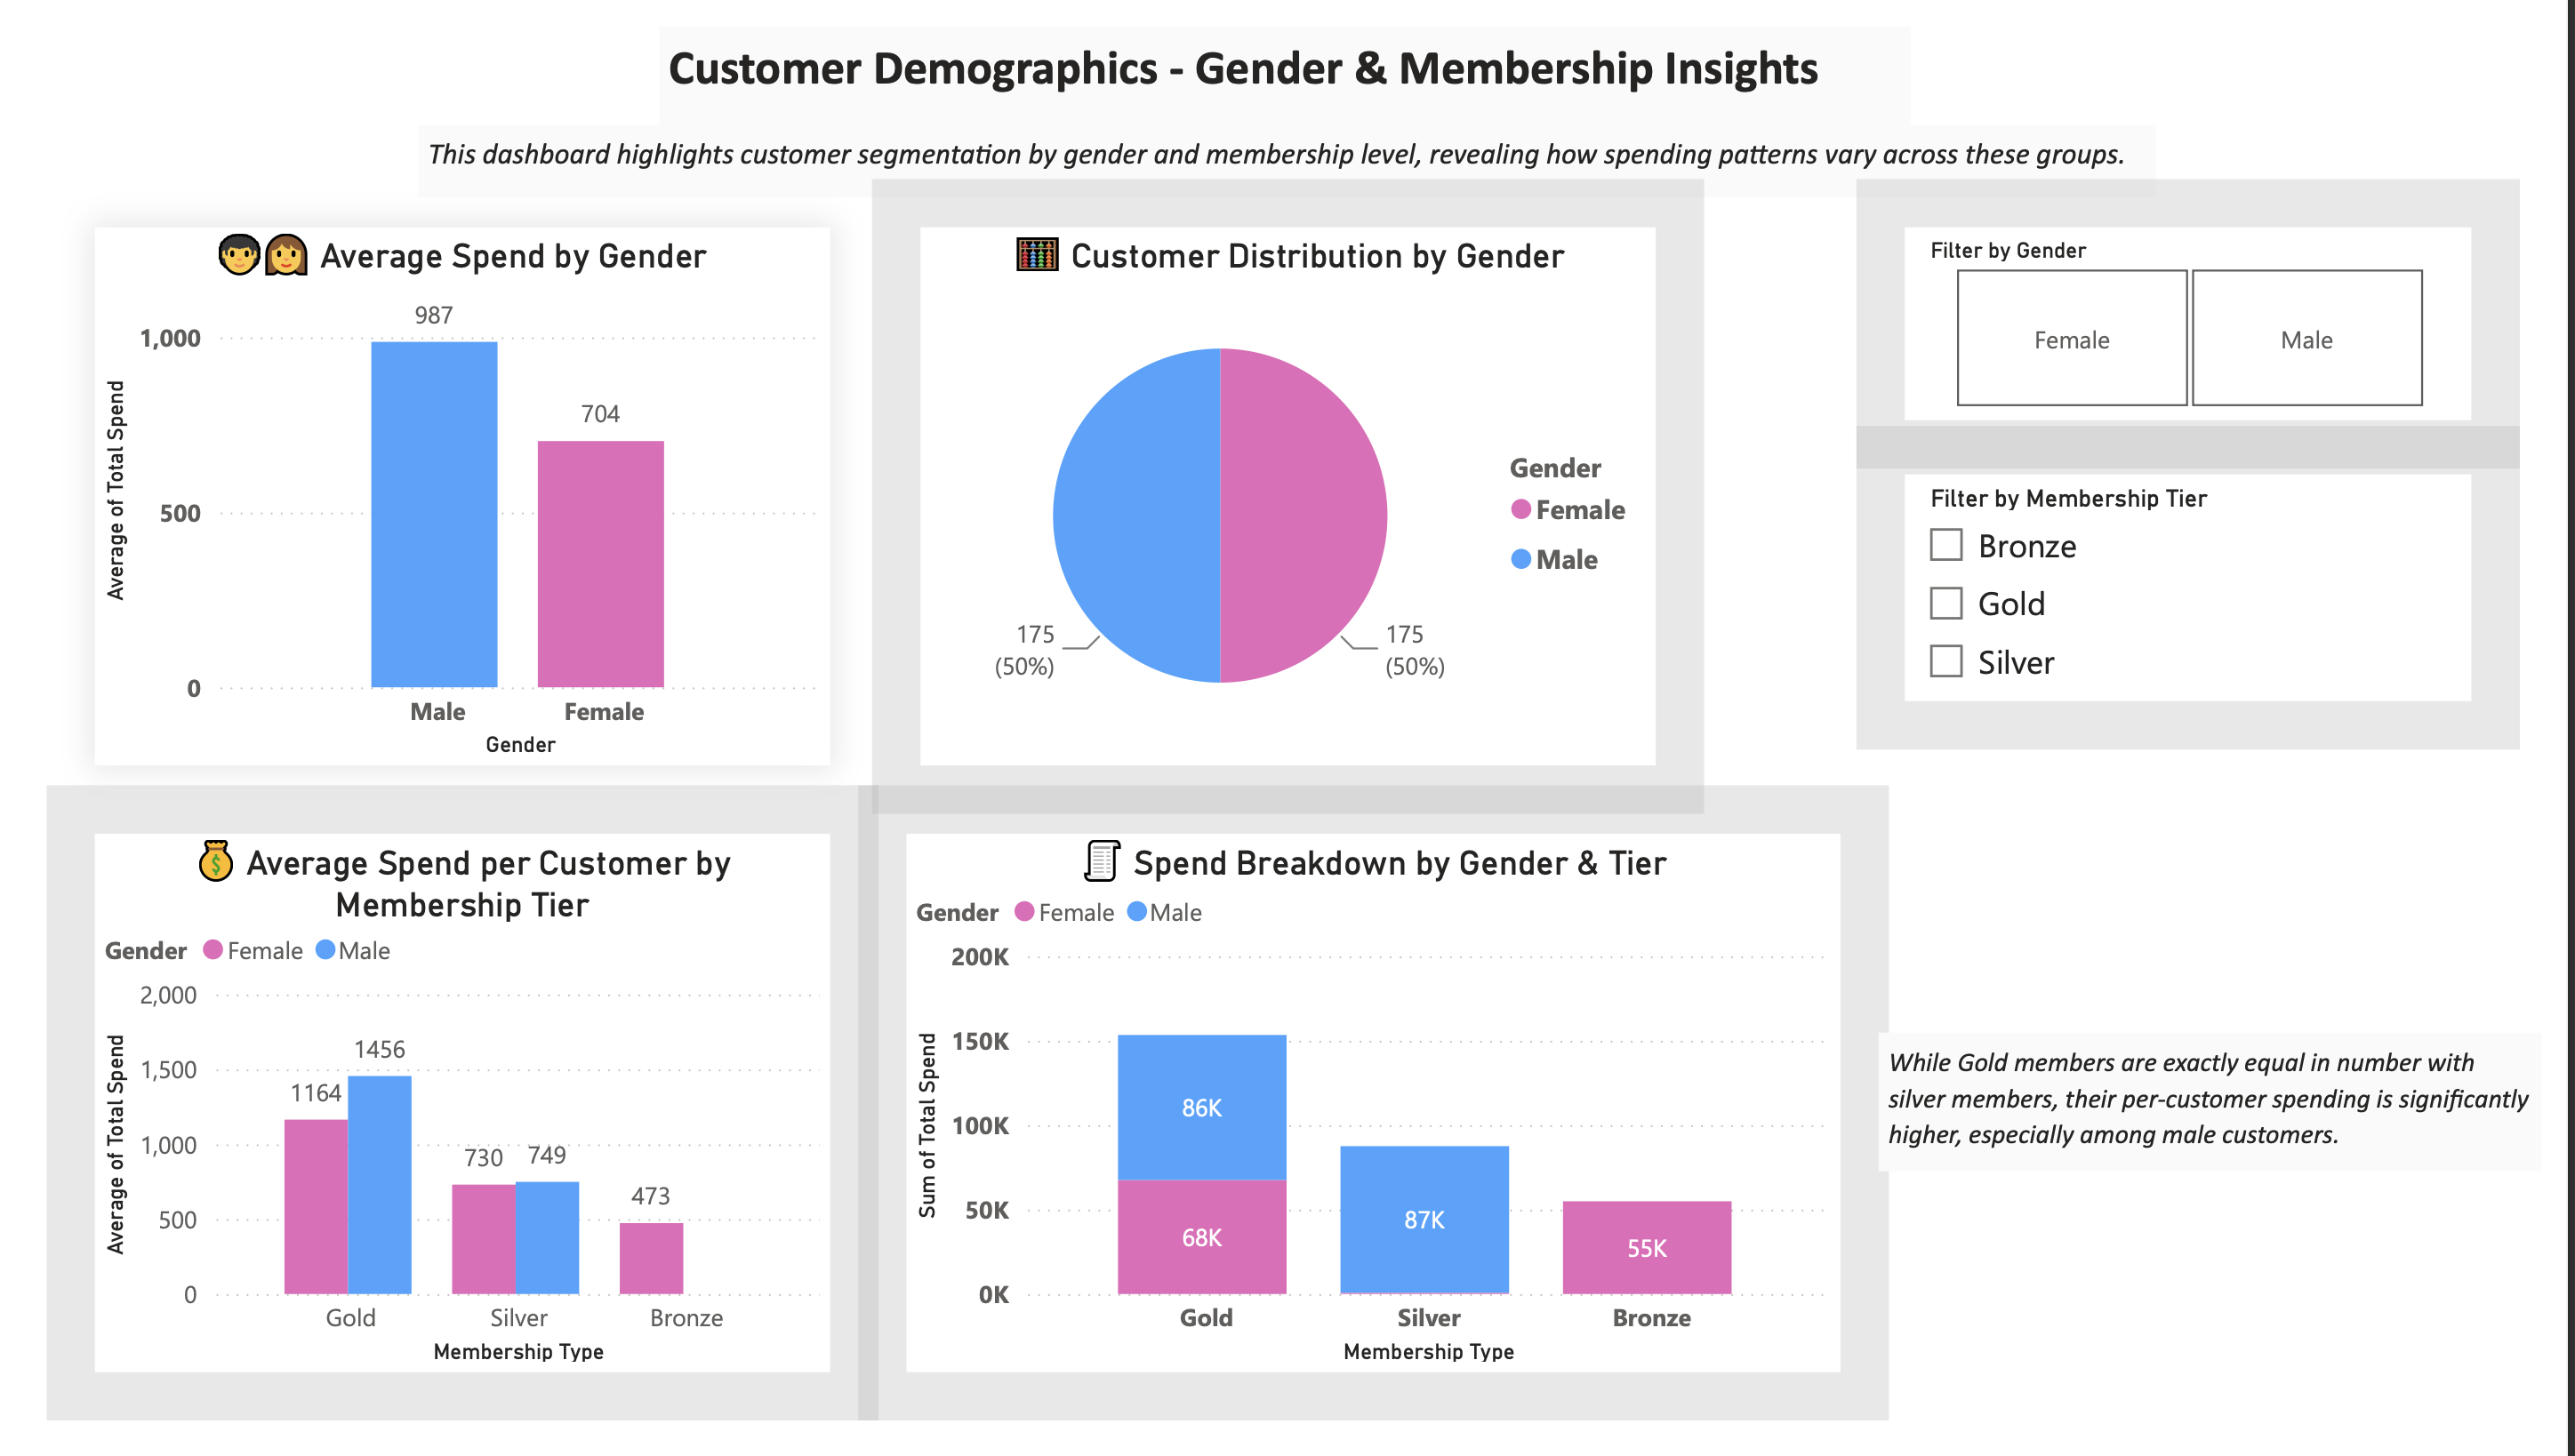

The dashboard page shown, as its layout file describes it:
{"tool":"powerbi","page":{"name":"Page 2","canvas":[1280,720],"ordinal":1},"visuals":[{"type":"textbox","box":[329.7,11.9,622.6,48.7],"z":0},{"type":"textbox","box":[209.5,60.6,864.9,35.7],"z":1000},{"type":"clusteredColumnChart","title":"👨🦱👩  Average Spend by Gender","fields":{"Y":["Avg(E-commerce Customer Behavior - Sheet1.Total Spend)"],"Category":["E-commerce Customer Behavior - Sheet1.Gender"]},"box":[48.7,112.2,366.4,268.1],"z":2000},{"type":"pieChart","title":"🧮  Customer Distribution by Gender","fields":{"Category":["E-commerce Customer Behavior - Sheet1.Gender"],"Y":["CountNonNull(E-commerce Customer Behavior - Sheet1.Customer ID)"]},"box":[459.8,112.2,366.4,268.1],"z":3000},{"type":"columnChart","title":"🧾 Spend Breakdown by Gender & Tier","fields":{"Category":["E-commerce Customer Behavior - Sheet1.Membership Type"],"Y":["Sum(E-commerce Customer Behavior - Sheet1.Total Spend)"],"Series":["E-commerce Customer Behavior - Sheet1.Gender"]},"box":[452.8,414.1,464.7,268.1],"z":4000},{"type":"slicer","fields":{"Values":["E-commerce Customer Behavior - Sheet1.Gender"]},"box":[949.6,112.1,281.8,96.2],"z":5000},{"type":"slicer","fields":{"Values":["E-commerce Customer Behavior - Sheet1.Membership Type"]},"box":[949.6,235.2,281.8,113.1],"z":6000},{"type":"clusteredColumnChart","title":"💰 Average Spend per Customer by Membership Tier","fields":{"Category":["E-commerce Customer Behavior - Sheet1.Membership Type"],"Y":["Avg(E-commerce Customer Behavior - Sheet1.Total Spend)"],"Series":["E-commerce Customer Behavior - Sheet1.Gender"]},"box":[48.7,414.1,366.4,268.1],"z":7000},{"type":"textbox","box":[936.7,513,330.4,69.5],"z":8000}]}

Visuals, with their boxes in screenshot pixels (x1, y1, x2, y2), scaled from the page's 1280x720 canvas onto the 2575x1456 screenshot:
textbox: select_region(663, 24, 1916, 123)
textbox: select_region(421, 123, 2162, 195)
"👨🦱👩  Average Spend by Gender" clusteredColumnChart: select_region(98, 227, 835, 769)
"🧮  Customer Distribution by Gender" pieChart: select_region(925, 227, 1662, 769)
"🧾 Spend Breakdown by Gender & Tier" columnChart: select_region(910, 837, 1846, 1380)
slicer - E-commerce Customer Behavior - Sheet1.Gender: select_region(1910, 227, 2477, 421)
slicer - E-commerce Customer Behavior - Sheet1.Membership Type: select_region(1910, 476, 2477, 704)
"💰 Average Spend per Customer by Membership Tier" clusteredColumnChart: select_region(98, 837, 835, 1380)
textbox: select_region(1884, 1037, 2549, 1178)
